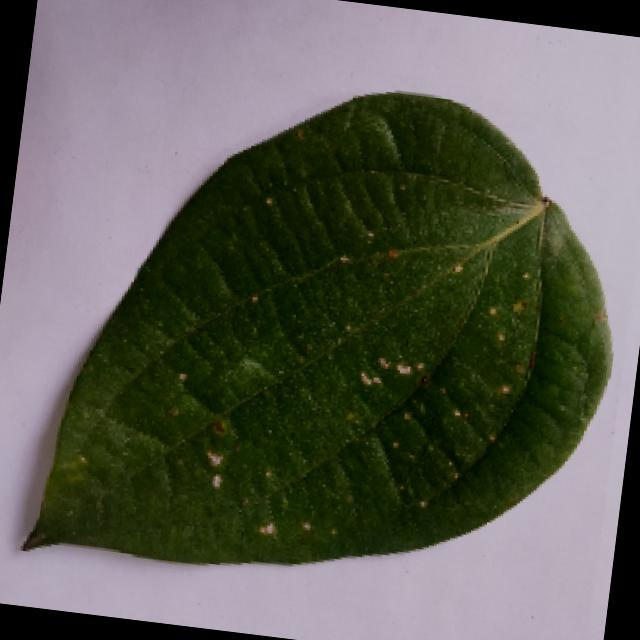pollu-disease: (7, 47, 640, 614)
